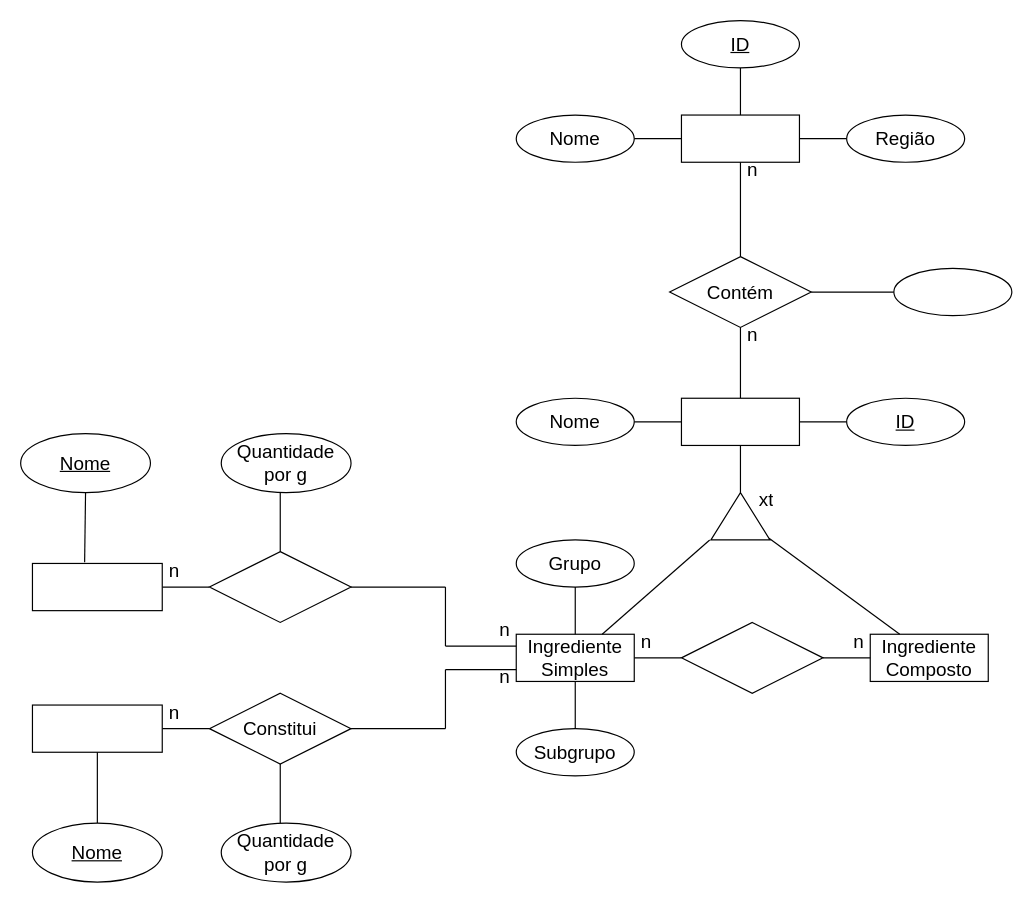
This 1033x903 diagram has some shape labels left out. The shapes that lost their labels are listed below. From the top down, each one's centre as x and y in pixels, then its label:
At point 739,138: "Receita".
At point 952,291: "Quantidade".
At point 739,421: "Ingrediente".
At point 96,586: "Macronutriente".
At point 279,586: "Define".
At point 751,657: "Compõe".
At point 96,728: "Composto Químico".
